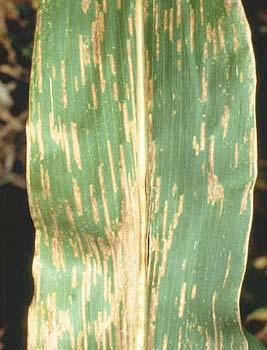Gray_Leaf_Spot: (25, 0, 163, 350), (199, 0, 260, 119), (188, 118, 261, 214), (162, 278, 207, 350), (207, 246, 235, 350), (237, 213, 257, 350), (162, 0, 198, 70), (164, 179, 187, 269), (169, 87, 178, 115)
